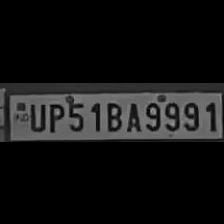1: (201, 99, 219, 131), (87, 99, 103, 131)
5: (66, 98, 86, 132)
9: (180, 97, 200, 130), (141, 98, 161, 130), (162, 98, 180, 130)
A: (123, 98, 141, 132)
B: (103, 97, 123, 130)
P: (45, 98, 63, 132)
U: (27, 100, 46, 132)
